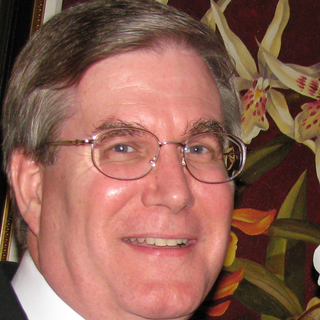eye: (101, 136, 144, 160), (180, 141, 219, 164)
